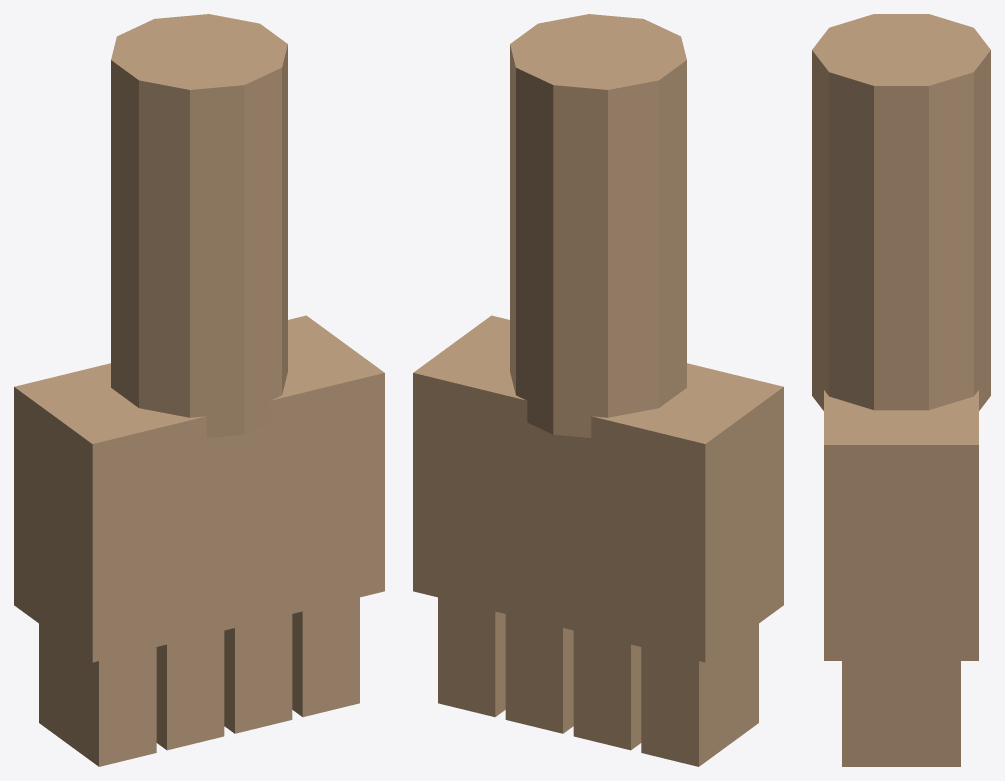
Rendered from limb_cyclops_giant_hand.glb.
The picture shows the model from 3 angles, left to right: view 1: azimuth 30°, elevation 25°; view 2: azimuth 150°, elevation 25°; view 3: azimuth 270°, elevation 25°; orthographic projection.
Parts seen in each view (by area): view 1: PART_palm, PART_forearm, PART_hand_finger_0, PART_hand_finger_2, PART_hand_finger_1, PART_hand_finger_3; view 2: PART_palm, PART_forearm, PART_hand_finger_0, PART_hand_finger_2, PART_hand_finger_1, PART_hand_finger_3; view 3: PART_forearm, PART_palm, PART_hand_finger_3.
Boxes of the visible parts, bbox=[...] form: PART_palm: bbox=[14, 315, 384, 662]; PART_forearm: bbox=[111, 14, 287, 437]; PART_hand_finger_0: bbox=[39, 624, 156, 766]; PART_hand_finger_2: bbox=[224, 614, 292, 733]; PART_hand_finger_1: bbox=[156, 630, 224, 750]; PART_hand_finger_3: bbox=[292, 597, 359, 716]; PART_palm: bbox=[413, 315, 783, 662]; PART_forearm: bbox=[510, 14, 686, 437]; PART_hand_finger_0: bbox=[641, 624, 758, 766]; PART_hand_finger_2: bbox=[505, 614, 573, 733]; PART_hand_finger_1: bbox=[573, 630, 641, 750]; PART_hand_finger_3: bbox=[438, 597, 505, 716]; PART_forearm: bbox=[812, 14, 990, 410]; PART_palm: bbox=[824, 390, 978, 660]; PART_hand_finger_3: bbox=[842, 661, 960, 766].
Size of the model in its own units: 0.28 by 0.605 by 0.15.
